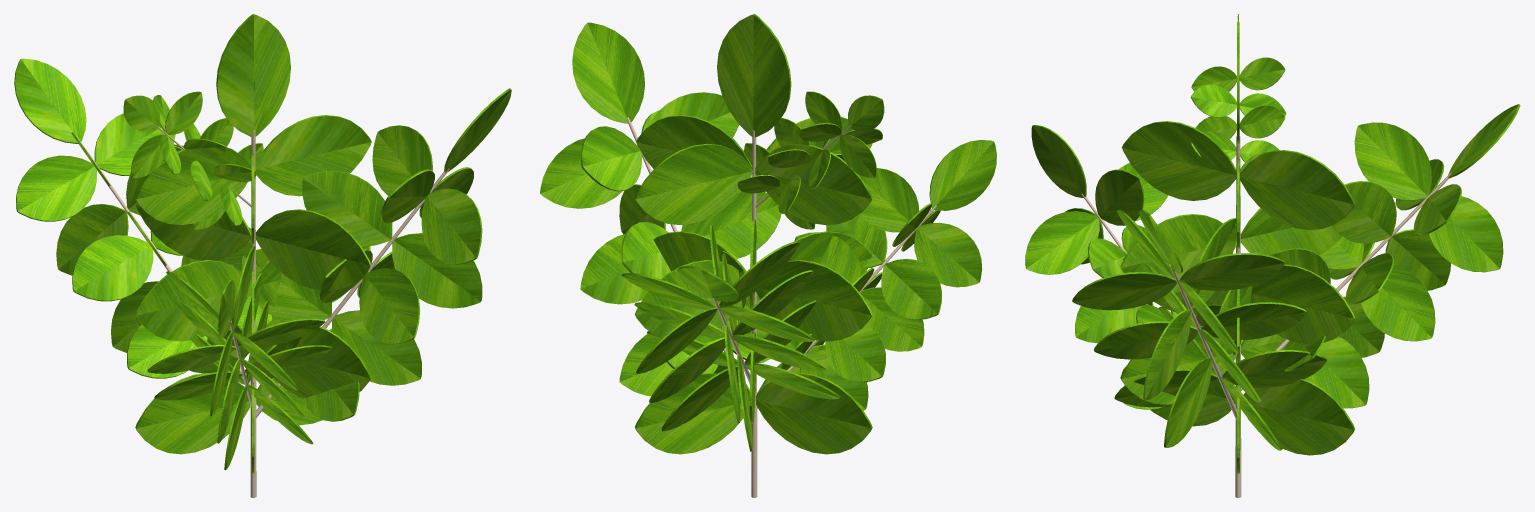
Rendered from arbusto05LT.obj.
3 views of the same model, side by side, from view 1: azimuth 30°, elevation 25°; view 2: azimuth 150°, elevation 25°; view 3: azimuth 270°, elevation 25° (orthographic).
Parts seen in each view (by area): view 1: Cylinder139, Cylinder143, Cylinder145, Cylinder136, Cylinder137, Cylinder138, Cylinder117, Cylinder122, Cylinder120, Cylinder119, Cylinder109, Cylinder107 (+43 smaller); view 2: Cylinder139, Cylinder148, Cylinder138, Cylinder105, Cylinder136, Cylinder137, Cylinder150, Cylinder173, Cylinder170, Cylinder103, Cylinder114, Cylinder185 (+42 smaller); view 3: Cylinder148, Cylinder140, Cylinder150, Cylinder149, Cylinder123, Cylinder131, Cylinder132, Cylinder174, Cylinder143, Cylinder106, Cylinder114, Cylinder133 (+41 smaller).
Part boxes in pixels (box(x1,y1,x2,y2)): Cylinder139: box(216, 14, 290, 137); Cylinder143: box(255, 209, 371, 290); Cylinder145: box(255, 115, 371, 196); Cylinder136: box(135, 147, 251, 225); Cylinder137: box(135, 260, 251, 341); Cylinder138: box(135, 373, 250, 454); Cylinder117: box(302, 171, 392, 246); Cylinder122: box(14, 58, 86, 143); Cylinder120: box(72, 235, 153, 301); Cylinder119: box(16, 155, 96, 221); Cylinder109: box(392, 233, 482, 308); Cylinder107: box(359, 268, 420, 344); Cylinder139: box(717, 14, 791, 137); Cylinder148: box(635, 143, 753, 224); Cylinder138: box(756, 373, 872, 454); Cylinder105: box(572, 22, 644, 123); Cylinder136: box(755, 144, 872, 225); Cylinder137: box(756, 260, 872, 341); Cylinder150: box(635, 373, 749, 454); Cylinder173: box(929, 140, 996, 210); Cylinder170: box(914, 222, 982, 287); Cylinder103: box(684, 191, 781, 258); Cylinder114: box(581, 126, 641, 191); Cylinder185: box(881, 259, 941, 319); Cylinder148: box(1240, 150, 1355, 229); Cylinder140: box(1122, 121, 1236, 200); Cylinder150: box(1243, 379, 1354, 455); Cylinder149: box(1250, 264, 1354, 344); Cylinder123: box(1354, 122, 1431, 200); Cylinder131: box(1429, 196, 1503, 272); Cylinder132: box(1361, 265, 1435, 341); Cylinder174: box(1025, 211, 1099, 274); Cylinder143: box(1120, 214, 1236, 292); Cylinder106: box(1072, 272, 1177, 310); Cylinder114: box(1180, 253, 1284, 290); Cylinder133: box(1304, 336, 1369, 408).
Size of the model in its own units: 41.81 by 52.63 by 49.79.
